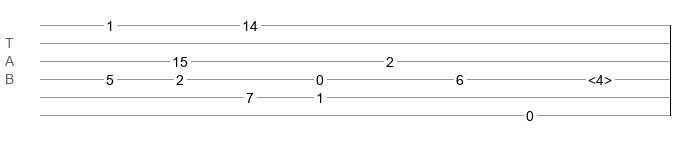0: (316, 72, 324, 82), (526, 108, 534, 118)
1: (106, 18, 114, 28), (316, 90, 324, 100)
14: (242, 18, 258, 28)
15: (172, 54, 188, 64)
2: (176, 72, 184, 82), (386, 54, 394, 64)
5: (106, 72, 114, 82)
6: (456, 72, 464, 82)
7: (246, 90, 254, 100)
harmonic: (588, 72, 612, 82)
